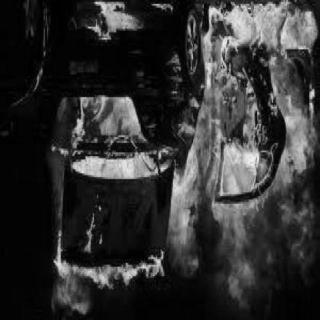Fire: (28, 4, 316, 320)
